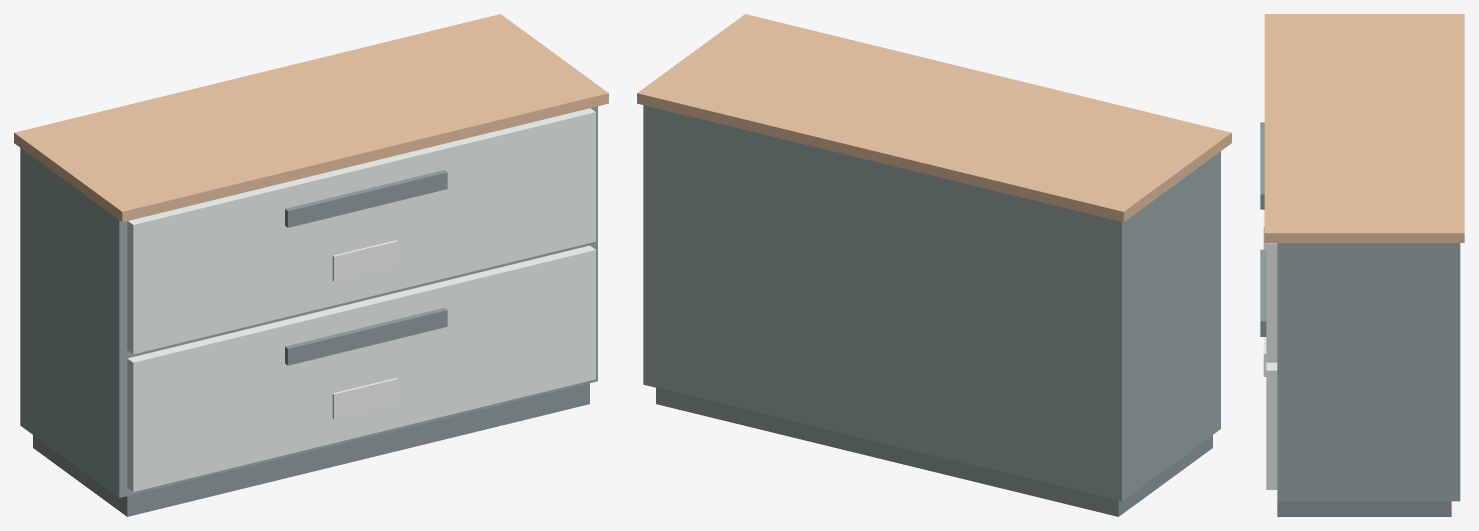
The model's file is filingLateral.glb.
3 views of the same model, side by side, from view 1: azimuth 30°, elevation 25°; view 2: azimuth 150°, elevation 25°; view 3: azimuth 270°, elevation 25° (orthographic). The views are drawn at different scales.
Parts seen in each view (by area): view 1: filingLateral; view 2: filingLateral; view 3: filingLateral.
Part boxes in pixels (x1,y1,x2,y2): filingLateral: [14, 14, 608, 516]; filingLateral: [637, 14, 1231, 516]; filingLateral: [1260, 14, 1464, 516].
Size of the model in its own units: 0.61 by 0.375 by 0.24.
